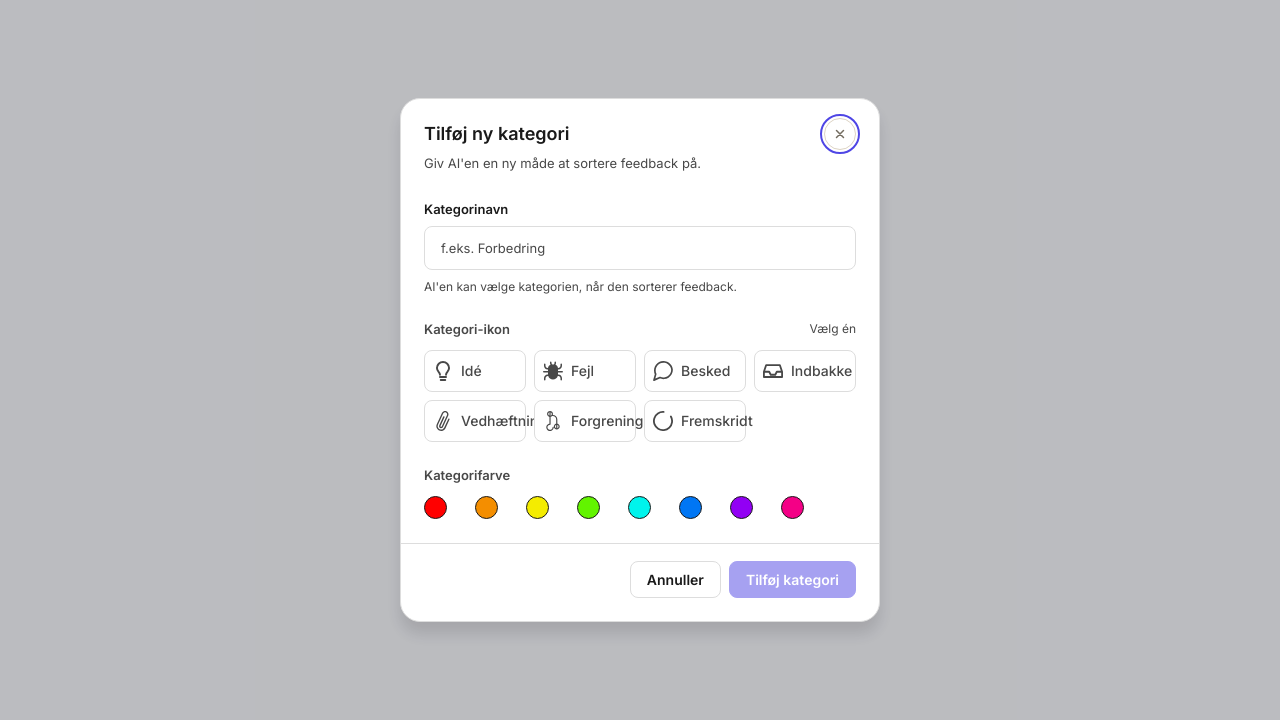
it: AddCategoryModal – bad names (US4) › refuses an existing name in any case and says so (FR-010)
Type "  fejl  " into the field labelled "Kategorinavn" at (640, 248), box [424, 226, 856, 270]
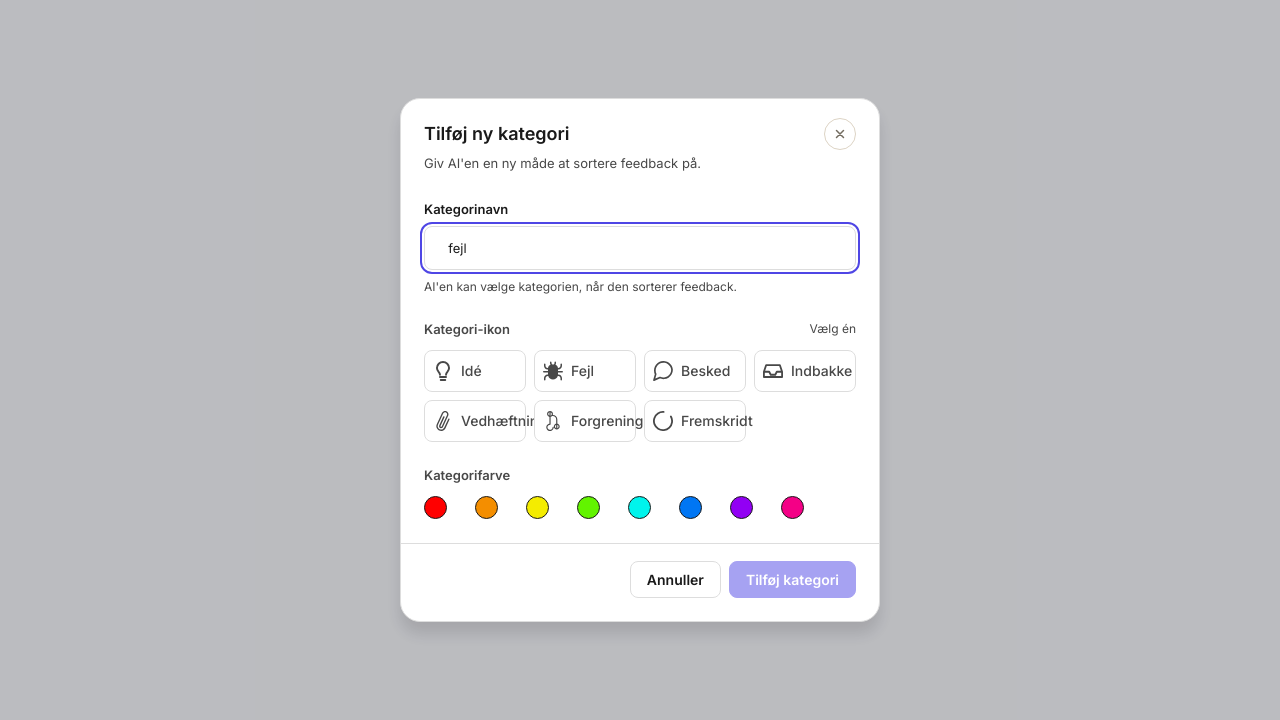
Click the 1st radio button labelled "Indbakke" at (805, 371), box [754, 350, 856, 392]
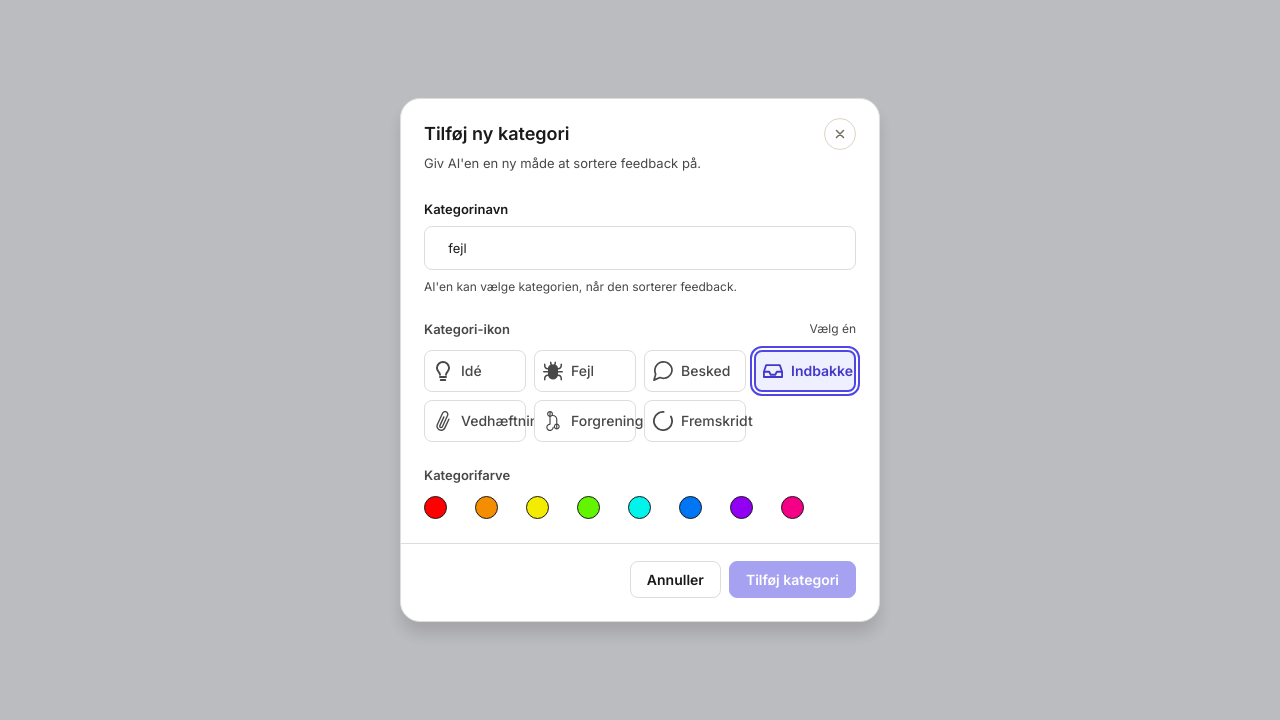
Click the radio button named "Blå" at (690, 508), box [679, 496, 702, 519]
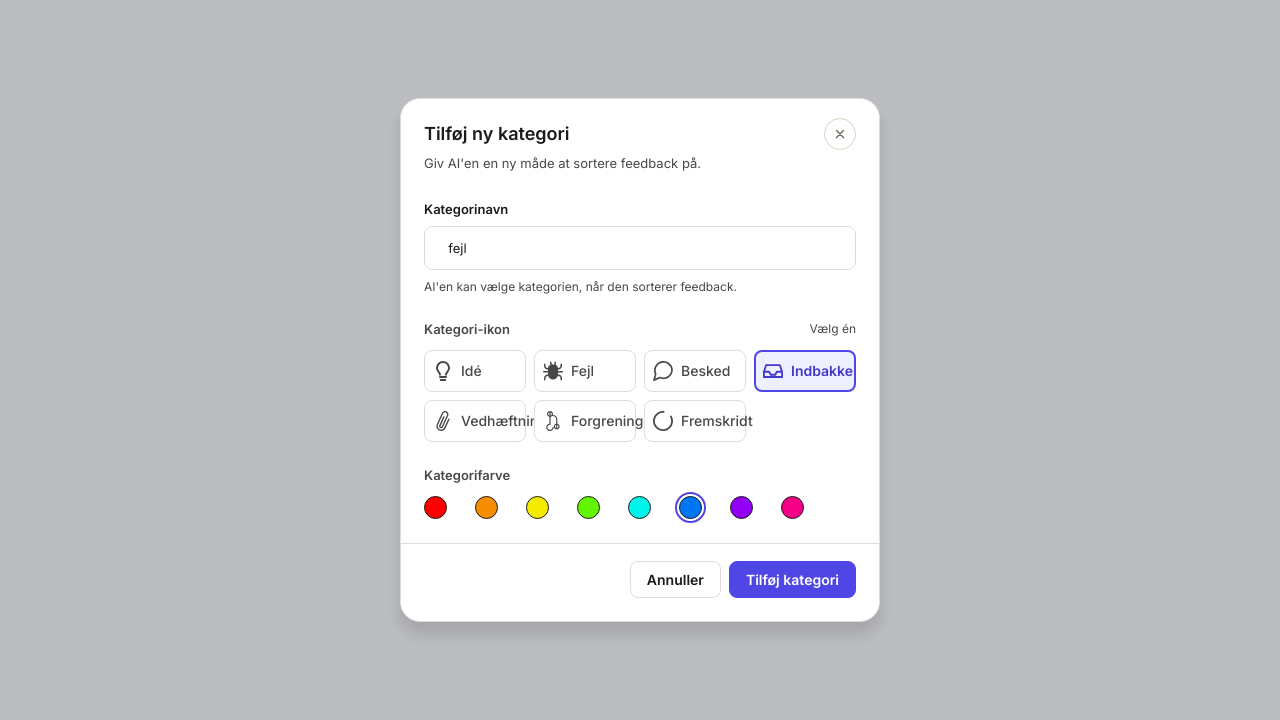
Click the button "Tilføj kategori" at (792, 580), box [729, 561, 856, 598]
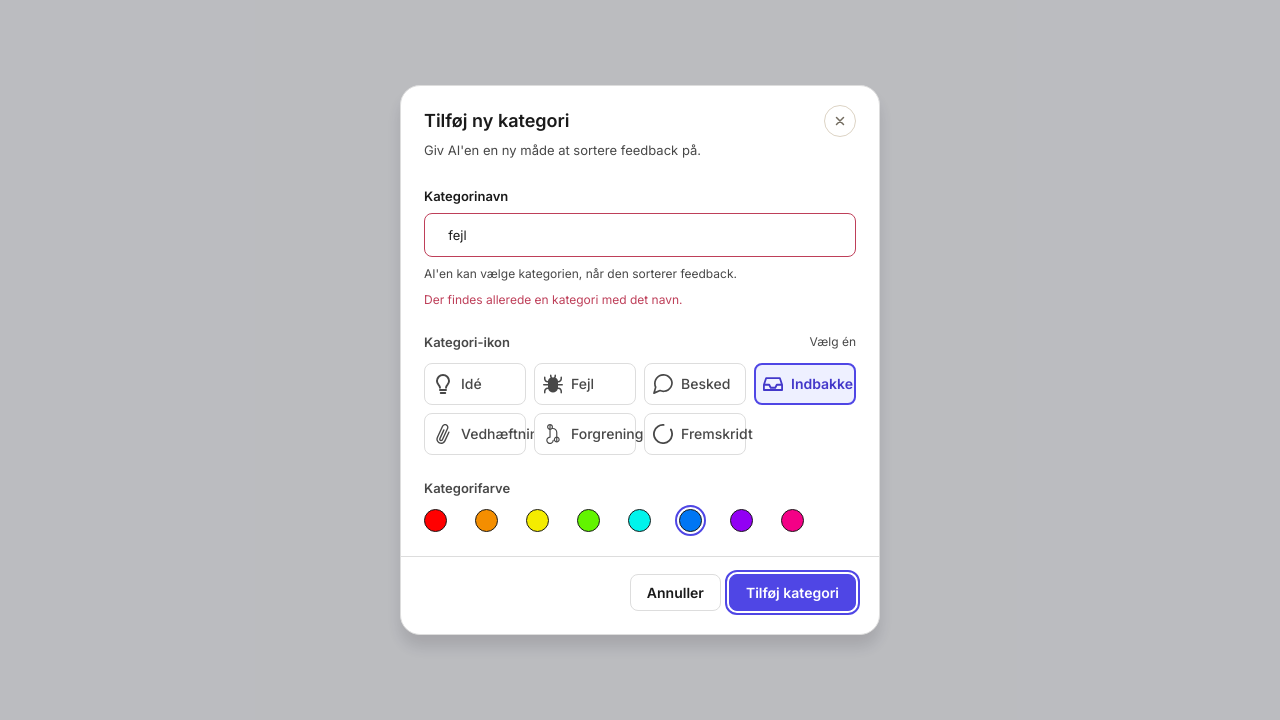
Check: the dialog is shown, box [400, 85, 880, 635]
Check: the message reads "Der findes allerede en kategori med det navn.", box [424, 292, 682, 307]
